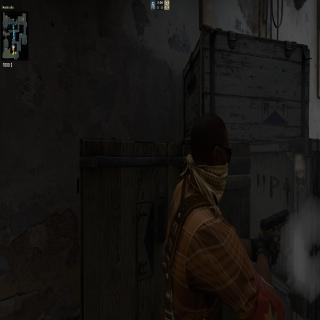T-Head: (182, 112, 233, 202)
